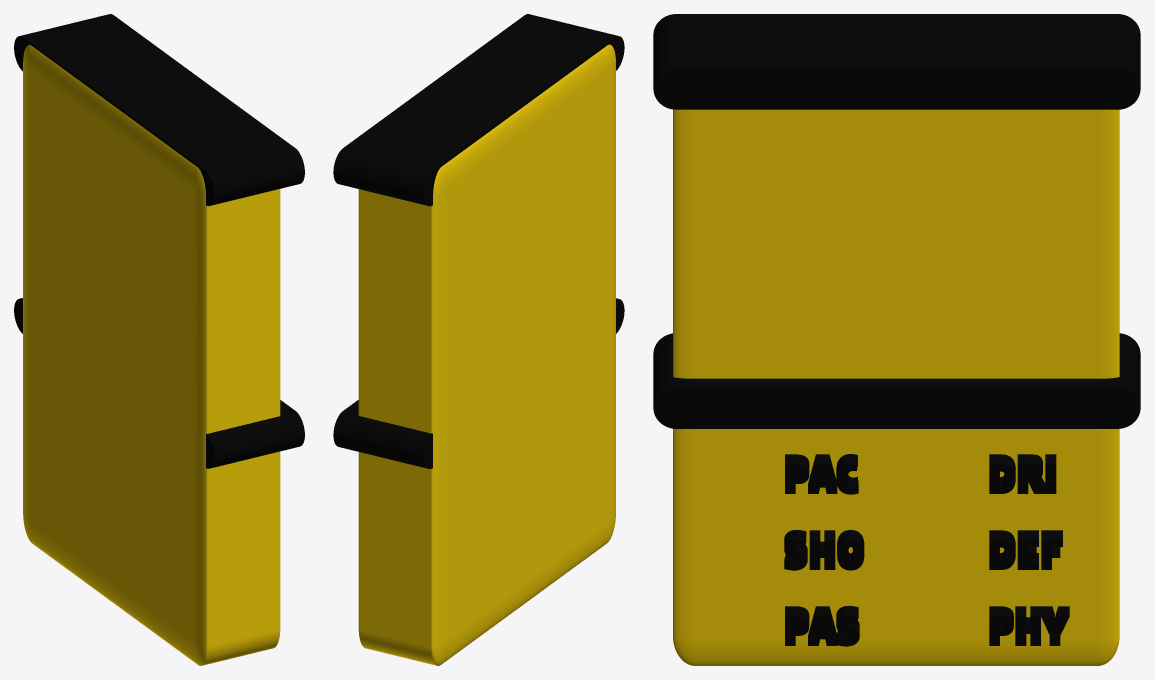
File: ZINCHENKO.fbx
3 views of the same model, side by side, from view 1: azimuth 30°, elevation 25°; view 2: azimuth 150°, elevation 25°; view 3: azimuth 270°, elevation 25° (orthographic). The views are drawn at different scales.
Visible parts, largest first — view 1: Куб, Цилиндр.002, Цилиндр.001; view 2: Куб, Цилиндр.002, Цилиндр.001; view 3: Куб, Цилиндр.002, Цилиндр.001, Текст, Текст.002, Текст.005, Текст.004, Текст.001, Текст.003.
Boxes of the visible parts, <box> form: Куб: <box>23,45,280,665</box>; Цилиндр.002: <box>14,14,304,206</box>; Цилиндр.001: <box>14,298,304,468</box>; Куб: <box>358,44,615,665</box>; Цилиндр.002: <box>333,14,624,206</box>; Цилиндр.001: <box>333,298,624,468</box>; Куб: <box>673,109,1119,665</box>; Цилиндр.002: <box>653,14,1140,109</box>; Цилиндр.001: <box>653,333,1140,428</box>; Текст: <box>784,530,864,570</box>; Текст.002: <box>785,605,859,646</box>; Текст.005: <box>989,606,1069,645</box>; Текст.004: <box>989,530,1062,569</box>; Текст.001: <box>785,454,858,494</box>; Текст.003: <box>989,454,1056,493</box>.
Size of the model in its own units: 243 by 1202 by 872.
